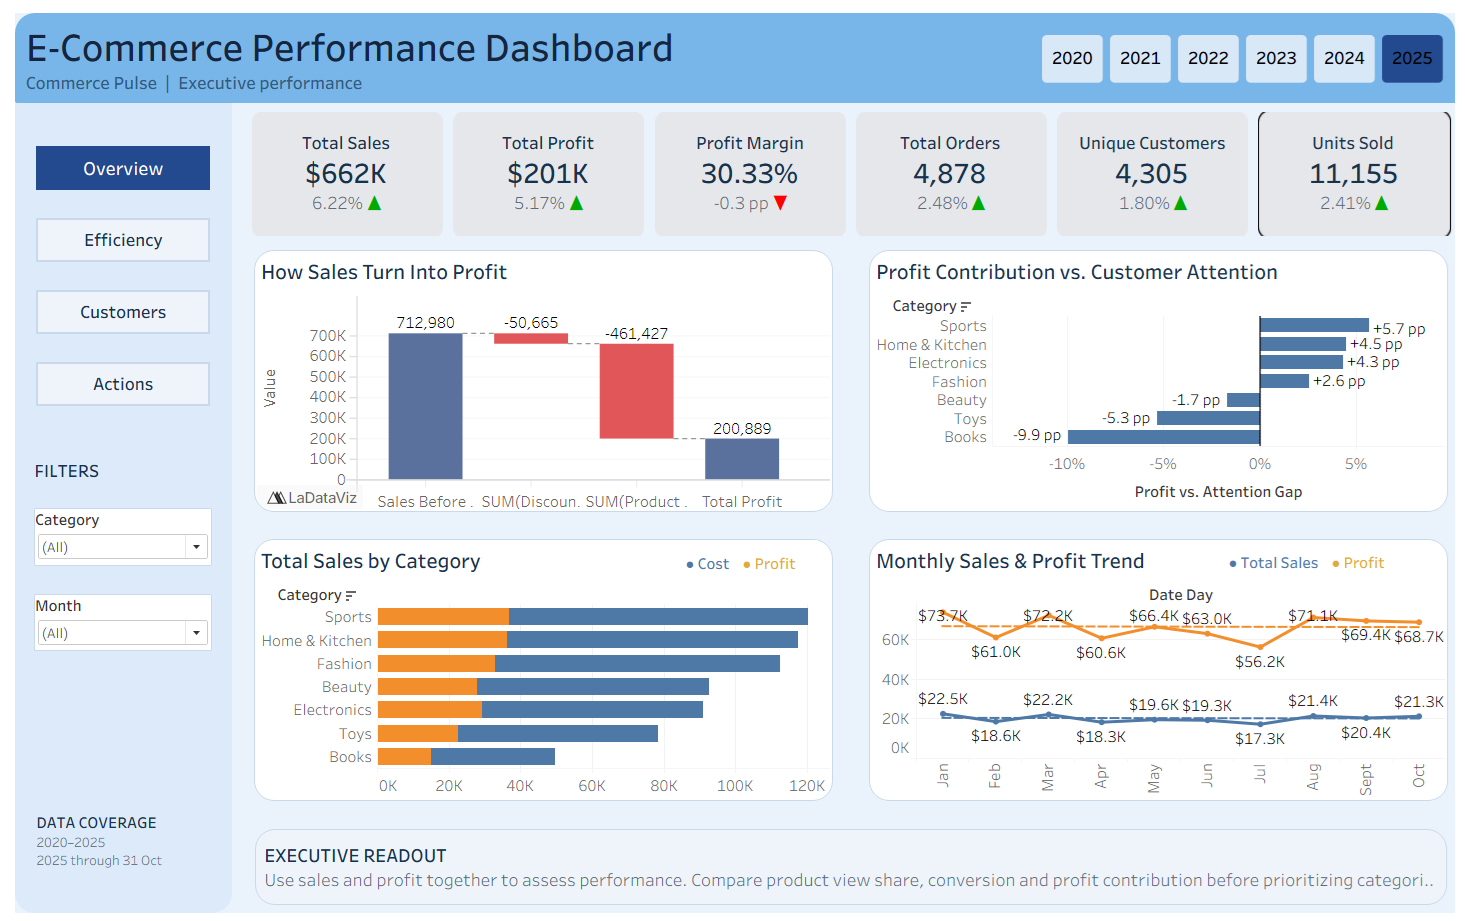

This screenshot's page, from the dashboard's own definition file:
{"tool":"tableau","page":{"name":"Page 1 - Business Health & Opportunity","canvas":[1440,900],"ordinal":0},"visuals":[{"type":"text","box":[0,0,989,90]},{"type":"blank","box":[989,0,451,90]},{"type":"worksheet","title":"Selector Year","mark":"Shape","cols":["Calculation_0412627662340116"],"box":[1022.4,9,410.4,72]},{"type":"blank","box":[0,90,217.1,810]},{"type":"worksheet","title":"KPIs","mark":"Text","cols":["Calculation_1414557553225744","Calculation_193001","Calculation_193002","Calculation_193003","Calculation_193004","Calculation_193005"],"box":[231.6,99,1208.4,124]},{"type":"dashboard-object","box":[14.5,126,188.1,58.5]},{"type":"dashboard-object","box":[14.5,198,188.1,58.5]},{"type":"worksheet","title":"How Sales Turn Into Profit","mark":"VizExtension","box":[231.6,229.6,593.4,275.5]},{"type":"worksheet","title":"Profit Contribution vs. Customer Attention","mark":"Bar","rows":["category"],"box":[846.6,229.6,593.4,275.5]},{"type":"dashboard-object","box":[14.5,270,188.1,58.5]},{"type":"dashboard-object","box":[14.5,342,188.1,58.5]},{"type":"text","box":[14.5,441,188.1,31.5]},{"type":"filter","title":"Profit Contribution vs. Customer Attention","param":"[federated.1t7d6vs1xppqs615qimkl0b4hpml].[none:category:nk]","box":[14.5,490.5,188.1,67.5]},{"type":"worksheet","title":"Total Sales by Category","mark":"Automatic","rows":["category"],"box":[231.6,518.9,593.4,275.5]},{"type":"worksheet","title":"Monthly Sales & Profit Trend","mark":"Line","cols":["date_day"],"box":[846.6,518.9,593.4,275.5]},{"type":"text","box":[667,527,136,46]},{"type":"text","box":[1208.4,532.8,217.1,31.5]},{"type":"filter","title":"Profit Contribution vs. Customer Attention","param":"[federated.1t7d6vs1xppqs615qimkl0b4hpml].[mn:calendar_month:ok]","box":[14.5,576,188.1,67.5]},{"type":"text","box":[14.5,787.5,188.1,81]},{"type":"text","box":[231.6,808.1,1208.4,91.9]}]}

Visuals, with their boxes in screenshot pixels (x1, y1, x2, y2), scaled from the page's 1440x900 canvas onto the 1465x921 screenshot:
text: bbox(0, 0, 1006, 92)
blank: bbox(1006, 0, 1464, 92)
"Selector Year" worksheet (Shape marks): bbox(1040, 9, 1458, 83)
blank: bbox(0, 92, 221, 920)
"KPIs" worksheet (Text marks): bbox(236, 101, 1464, 228)
dashboard-object: bbox(15, 129, 206, 189)
dashboard-object: bbox(15, 203, 206, 262)
"How Sales Turn Into Profit" worksheet (VizExtension marks): bbox(236, 235, 839, 517)
"Profit Contribution vs. Customer Attention" worksheet (Bar marks): bbox(861, 235, 1464, 517)
dashboard-object: bbox(15, 276, 206, 336)
dashboard-object: bbox(15, 350, 206, 410)
text: bbox(15, 451, 206, 484)
"Profit Contribution vs. Customer Attention" filter: bbox(15, 502, 206, 571)
"Total Sales by Category" worksheet: bbox(236, 531, 839, 813)
"Monthly Sales & Profit Trend" worksheet (Line marks): bbox(861, 531, 1464, 813)
text: bbox(679, 539, 817, 586)
text: bbox(1229, 545, 1450, 577)
"Profit Contribution vs. Customer Attention" filter: bbox(15, 589, 206, 659)
text: bbox(15, 806, 206, 889)
text: bbox(236, 827, 1464, 920)
